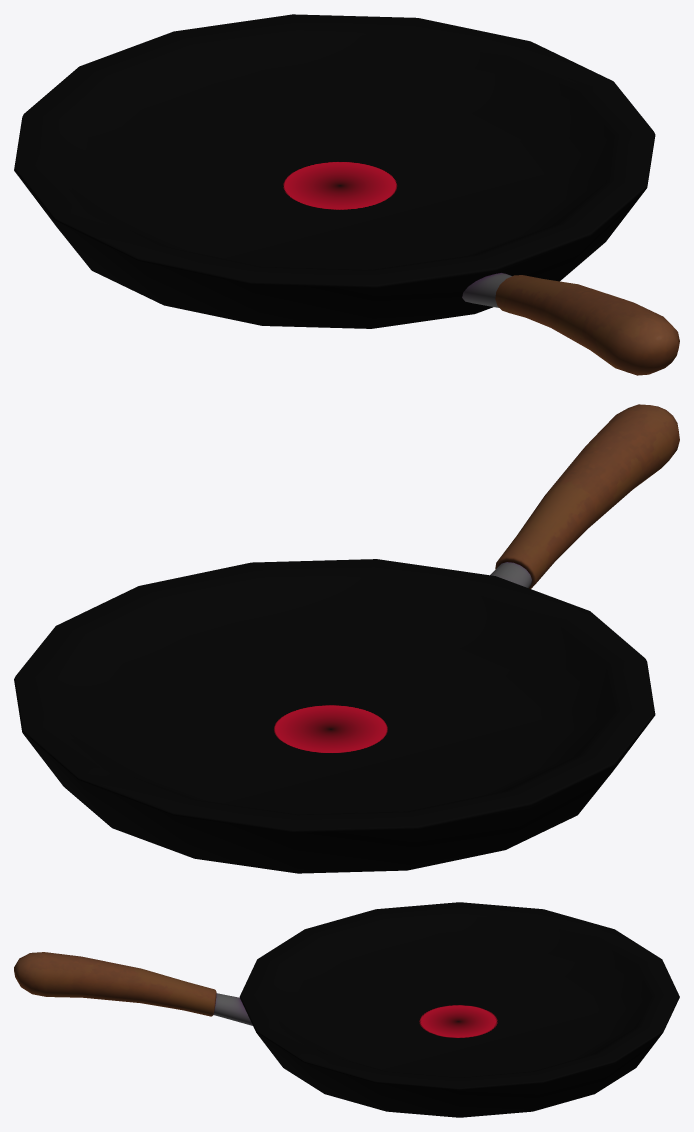
Rendered from FryingPan.fbx.
The picture shows the model from 3 angles, top to bottom: view 1: azimuth 30°, elevation 25°; view 2: azimuth 150°, elevation 25°; view 3: azimuth 270°, elevation 25°; orthographic projection. The views are drawn at different scales.
Parts seen in each view (by area): view 1: Cylinder.003; view 2: Cylinder.003; view 3: Cylinder.003.
Boxes of the visible parts, x1,y1,x2,y2 form: Cylinder.003: (14,14,679,375); Cylinder.003: (14,404,679,873); Cylinder.003: (14,902,679,1117).
Bounding box in the file's own units: 42.67 × 9.43 × 64.51.
